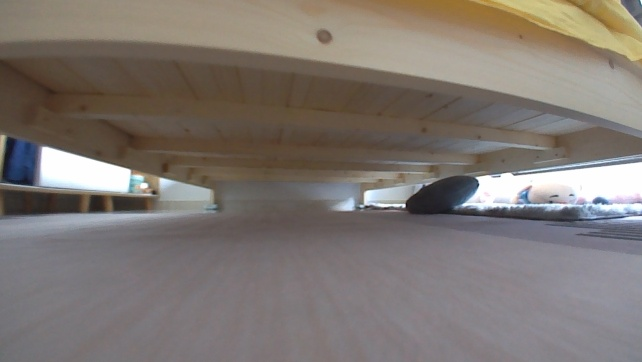blanket: (0, 203, 641, 361), (360, 199, 641, 223)
